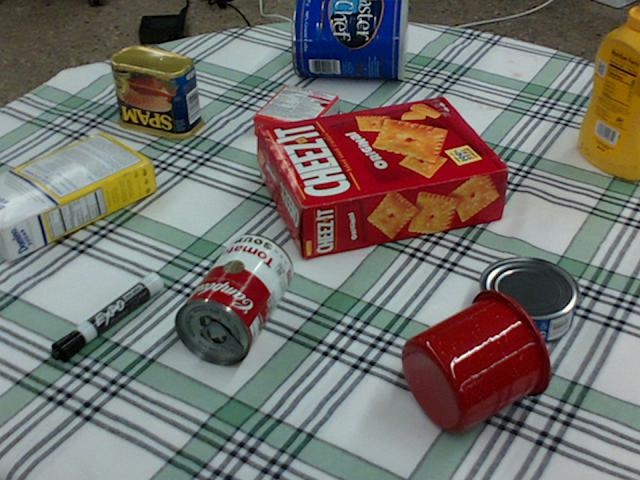cracker_box: (260, 96, 507, 257)
gelatin_box: (252, 82, 338, 148)
large_marker: (48, 272, 161, 362)
master_chef_can: (291, 0, 405, 78)
mug: (400, 286, 552, 433)
mustard_bottle: (576, 0, 639, 179)
potted_meat_can: (110, 46, 203, 138)
sugar_box: (0, 133, 153, 260)
tomato_soup_can: (173, 231, 293, 363)
tuna_fish_can: (478, 255, 580, 344)
